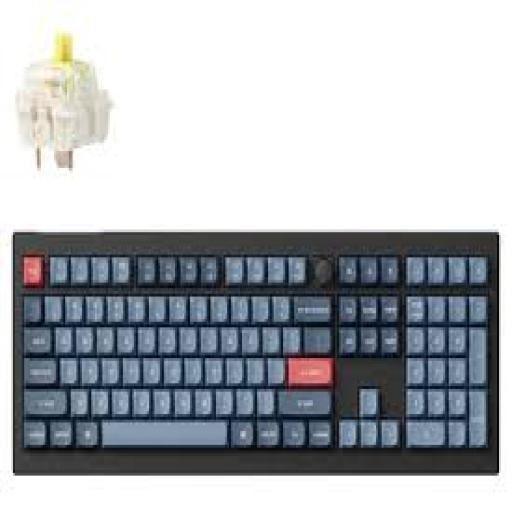KEYBOARD-2: (15, 232, 497, 470)
